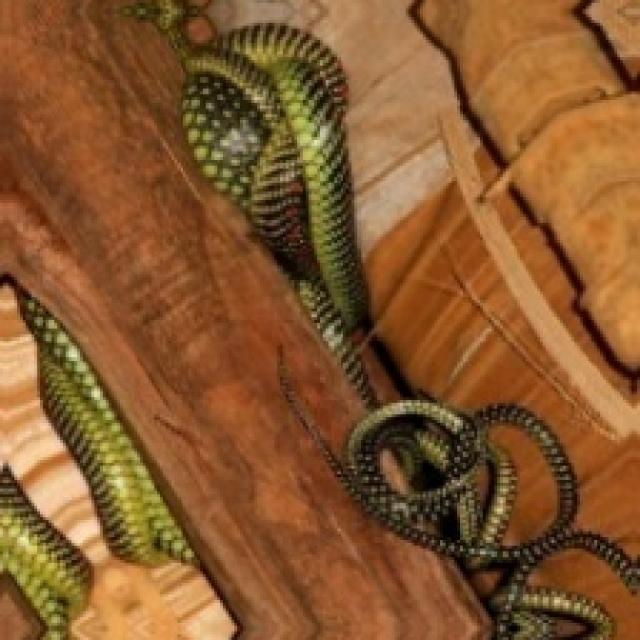paradise tree snake: (0, 0, 486, 637), (206, 0, 637, 551), (311, 0, 637, 549), (460, 140, 506, 240)
